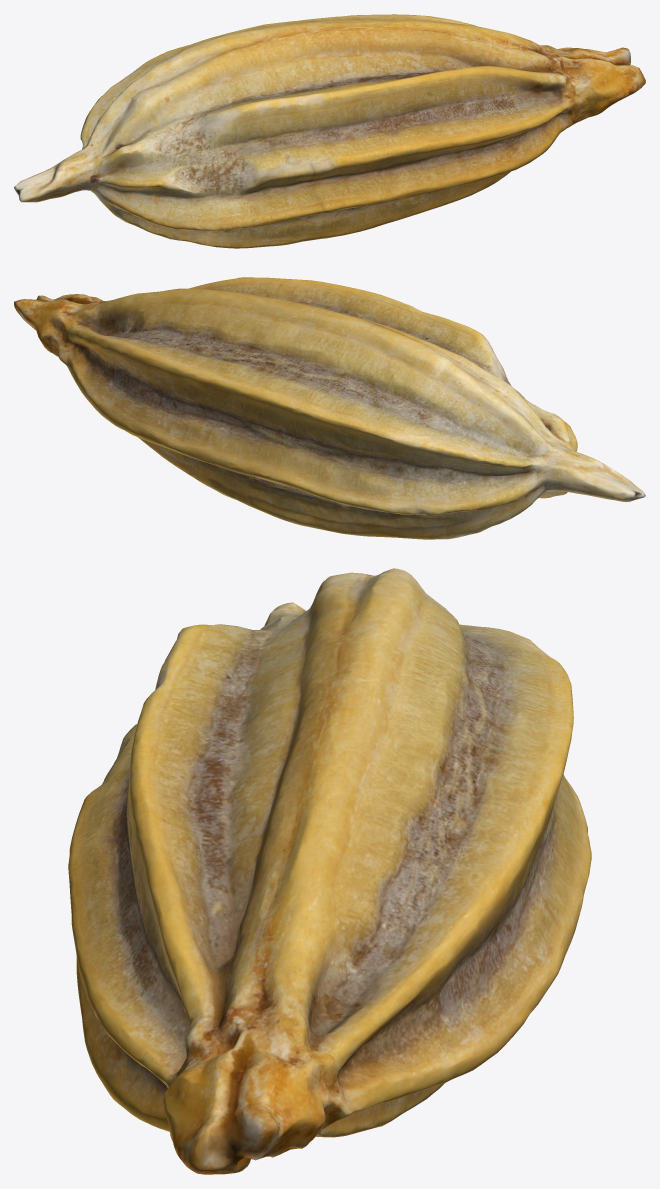
Rendered from Seed.fbx.
The picture shows the model from 3 angles, top to bottom: view 1: azimuth 30°, elevation 25°; view 2: azimuth 150°, elevation 25°; view 3: azimuth 270°, elevation 25°; orthographic projection. The views are drawn at different scales.
Parts seen in each view (by area): view 1: Model; view 2: Model; view 3: Model.
Boxes of the visible parts, x1,y1,x2,y2 form: Model: (14,14,645,248); Model: (14,277,645,539); Model: (68,568,591,1174).
Bounding box in the file's own units: 0.7265 × 0.278 × 0.2057.
